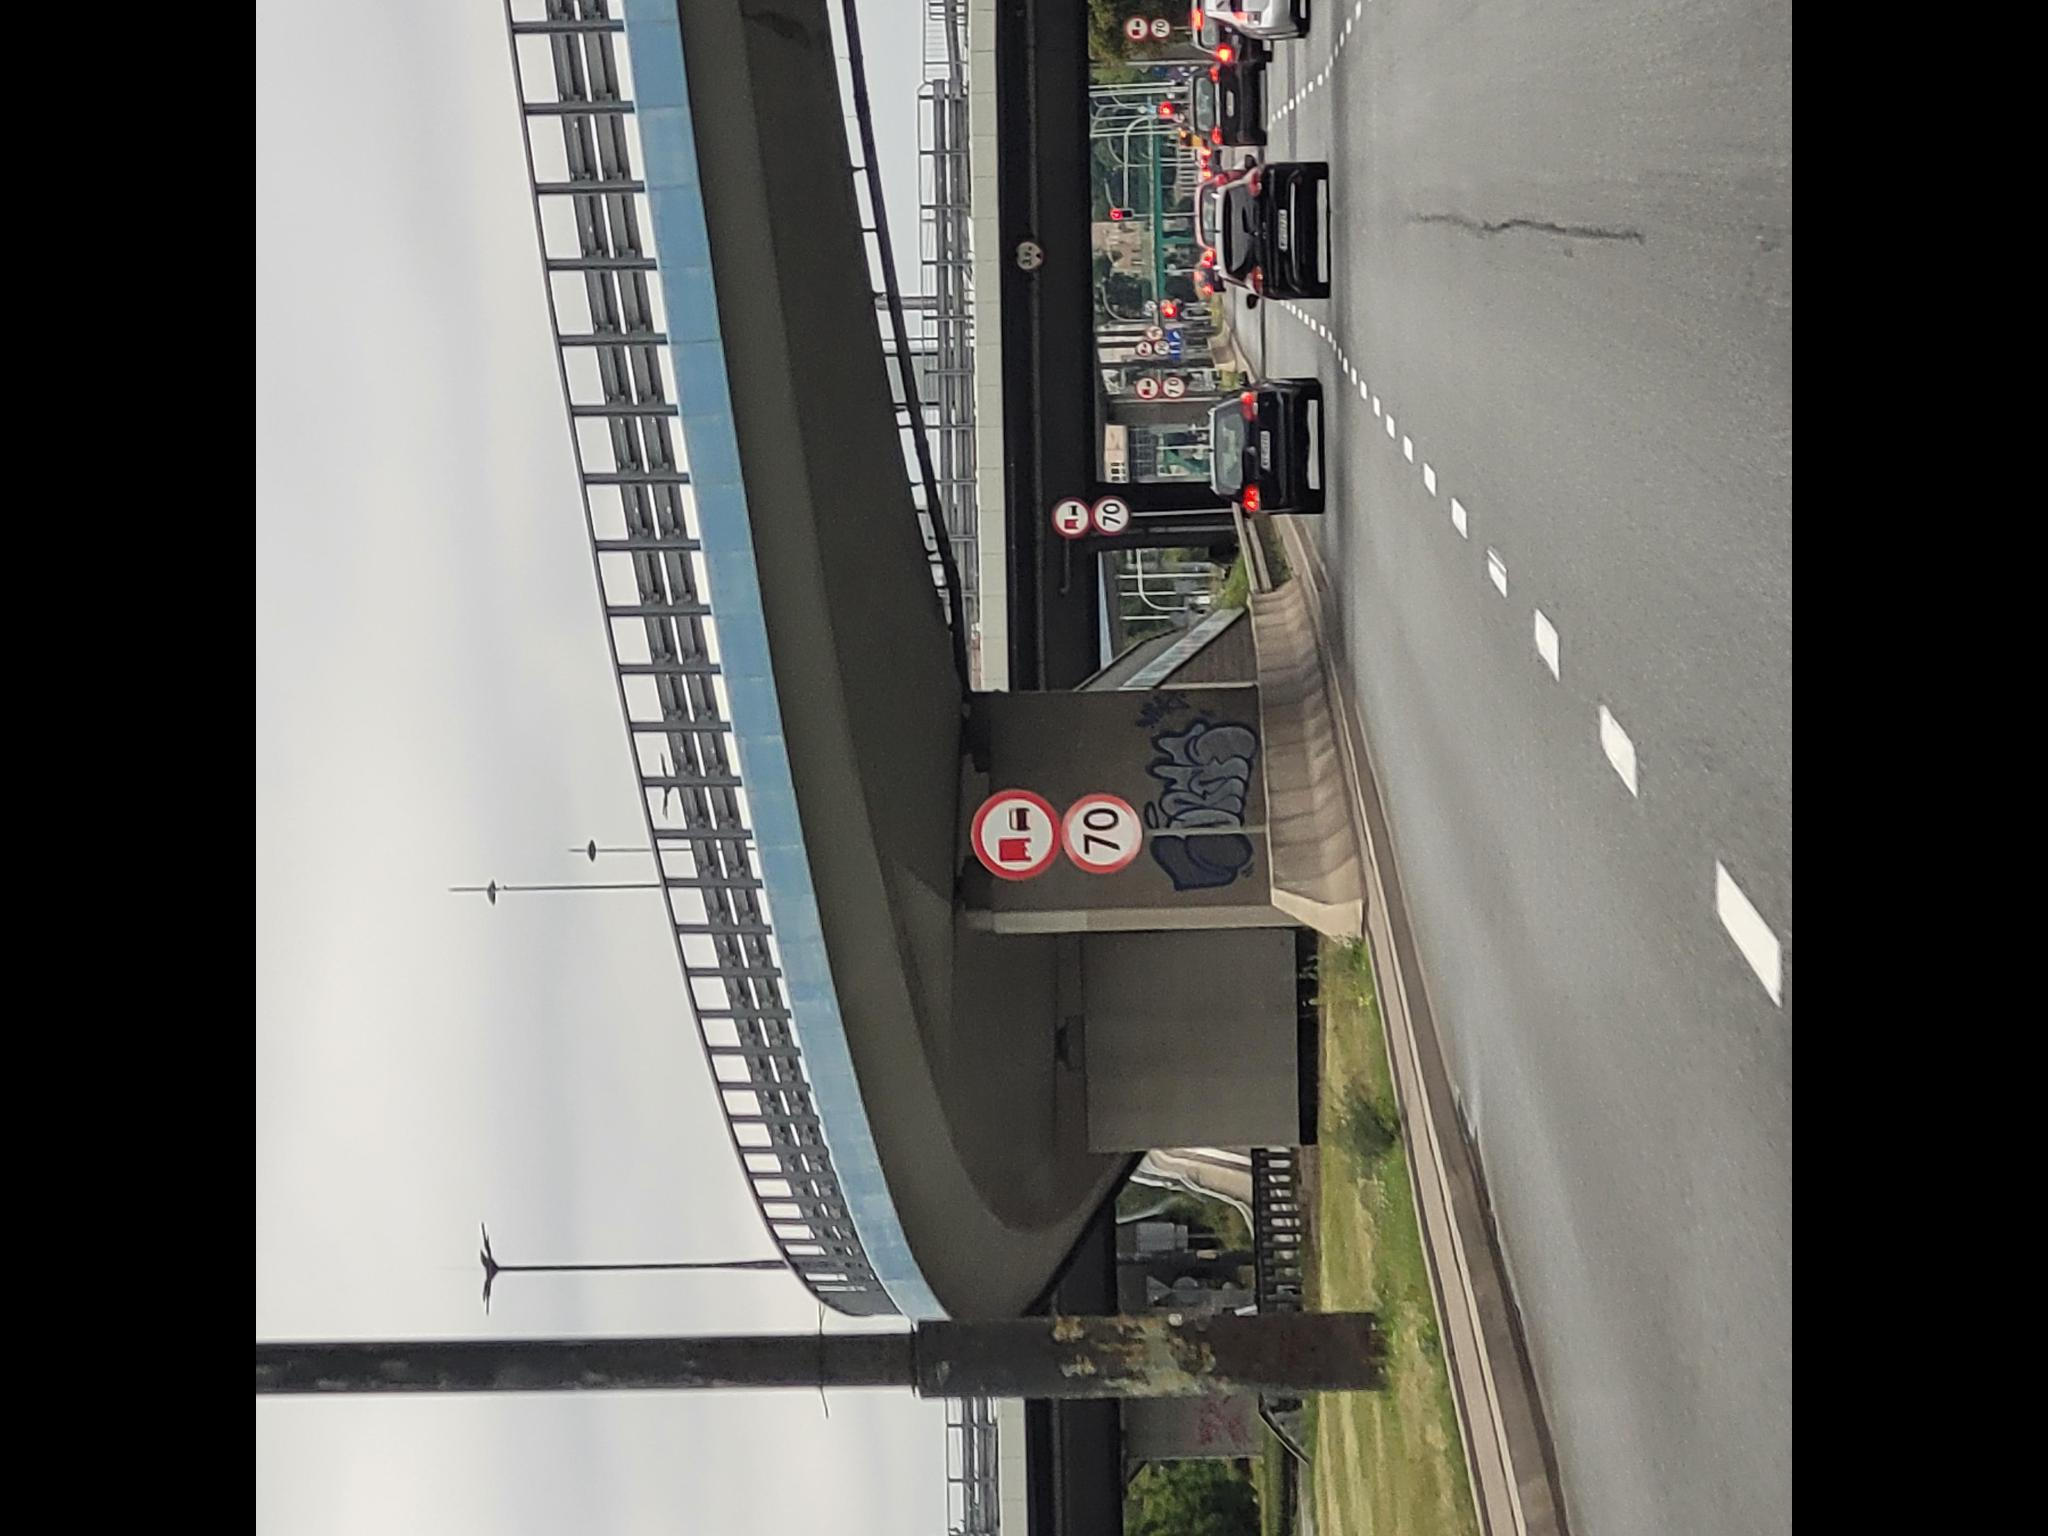prohibitory: (969, 787, 1061, 879), (1059, 791, 1143, 873), (1092, 494, 1132, 534), (1053, 495, 1092, 537), (1126, 15, 1150, 40), (1135, 374, 1161, 399), (1163, 374, 1187, 399), (1150, 16, 1172, 39)
